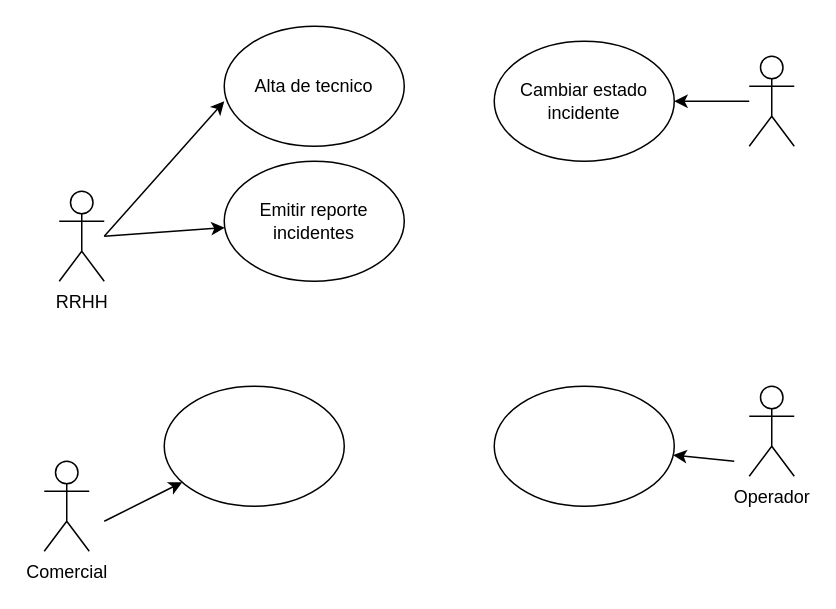
Image size: 836x609. Some labels were removed from this diagram. The shapes that lost their labels are listed below. From the top down, each one's centre as x and y in pixels, then its label:
At point 771,100: "Técnico".
At point 253,445: "Alta cliente".
At point 583,445: "Ingresar estado incidentes".
